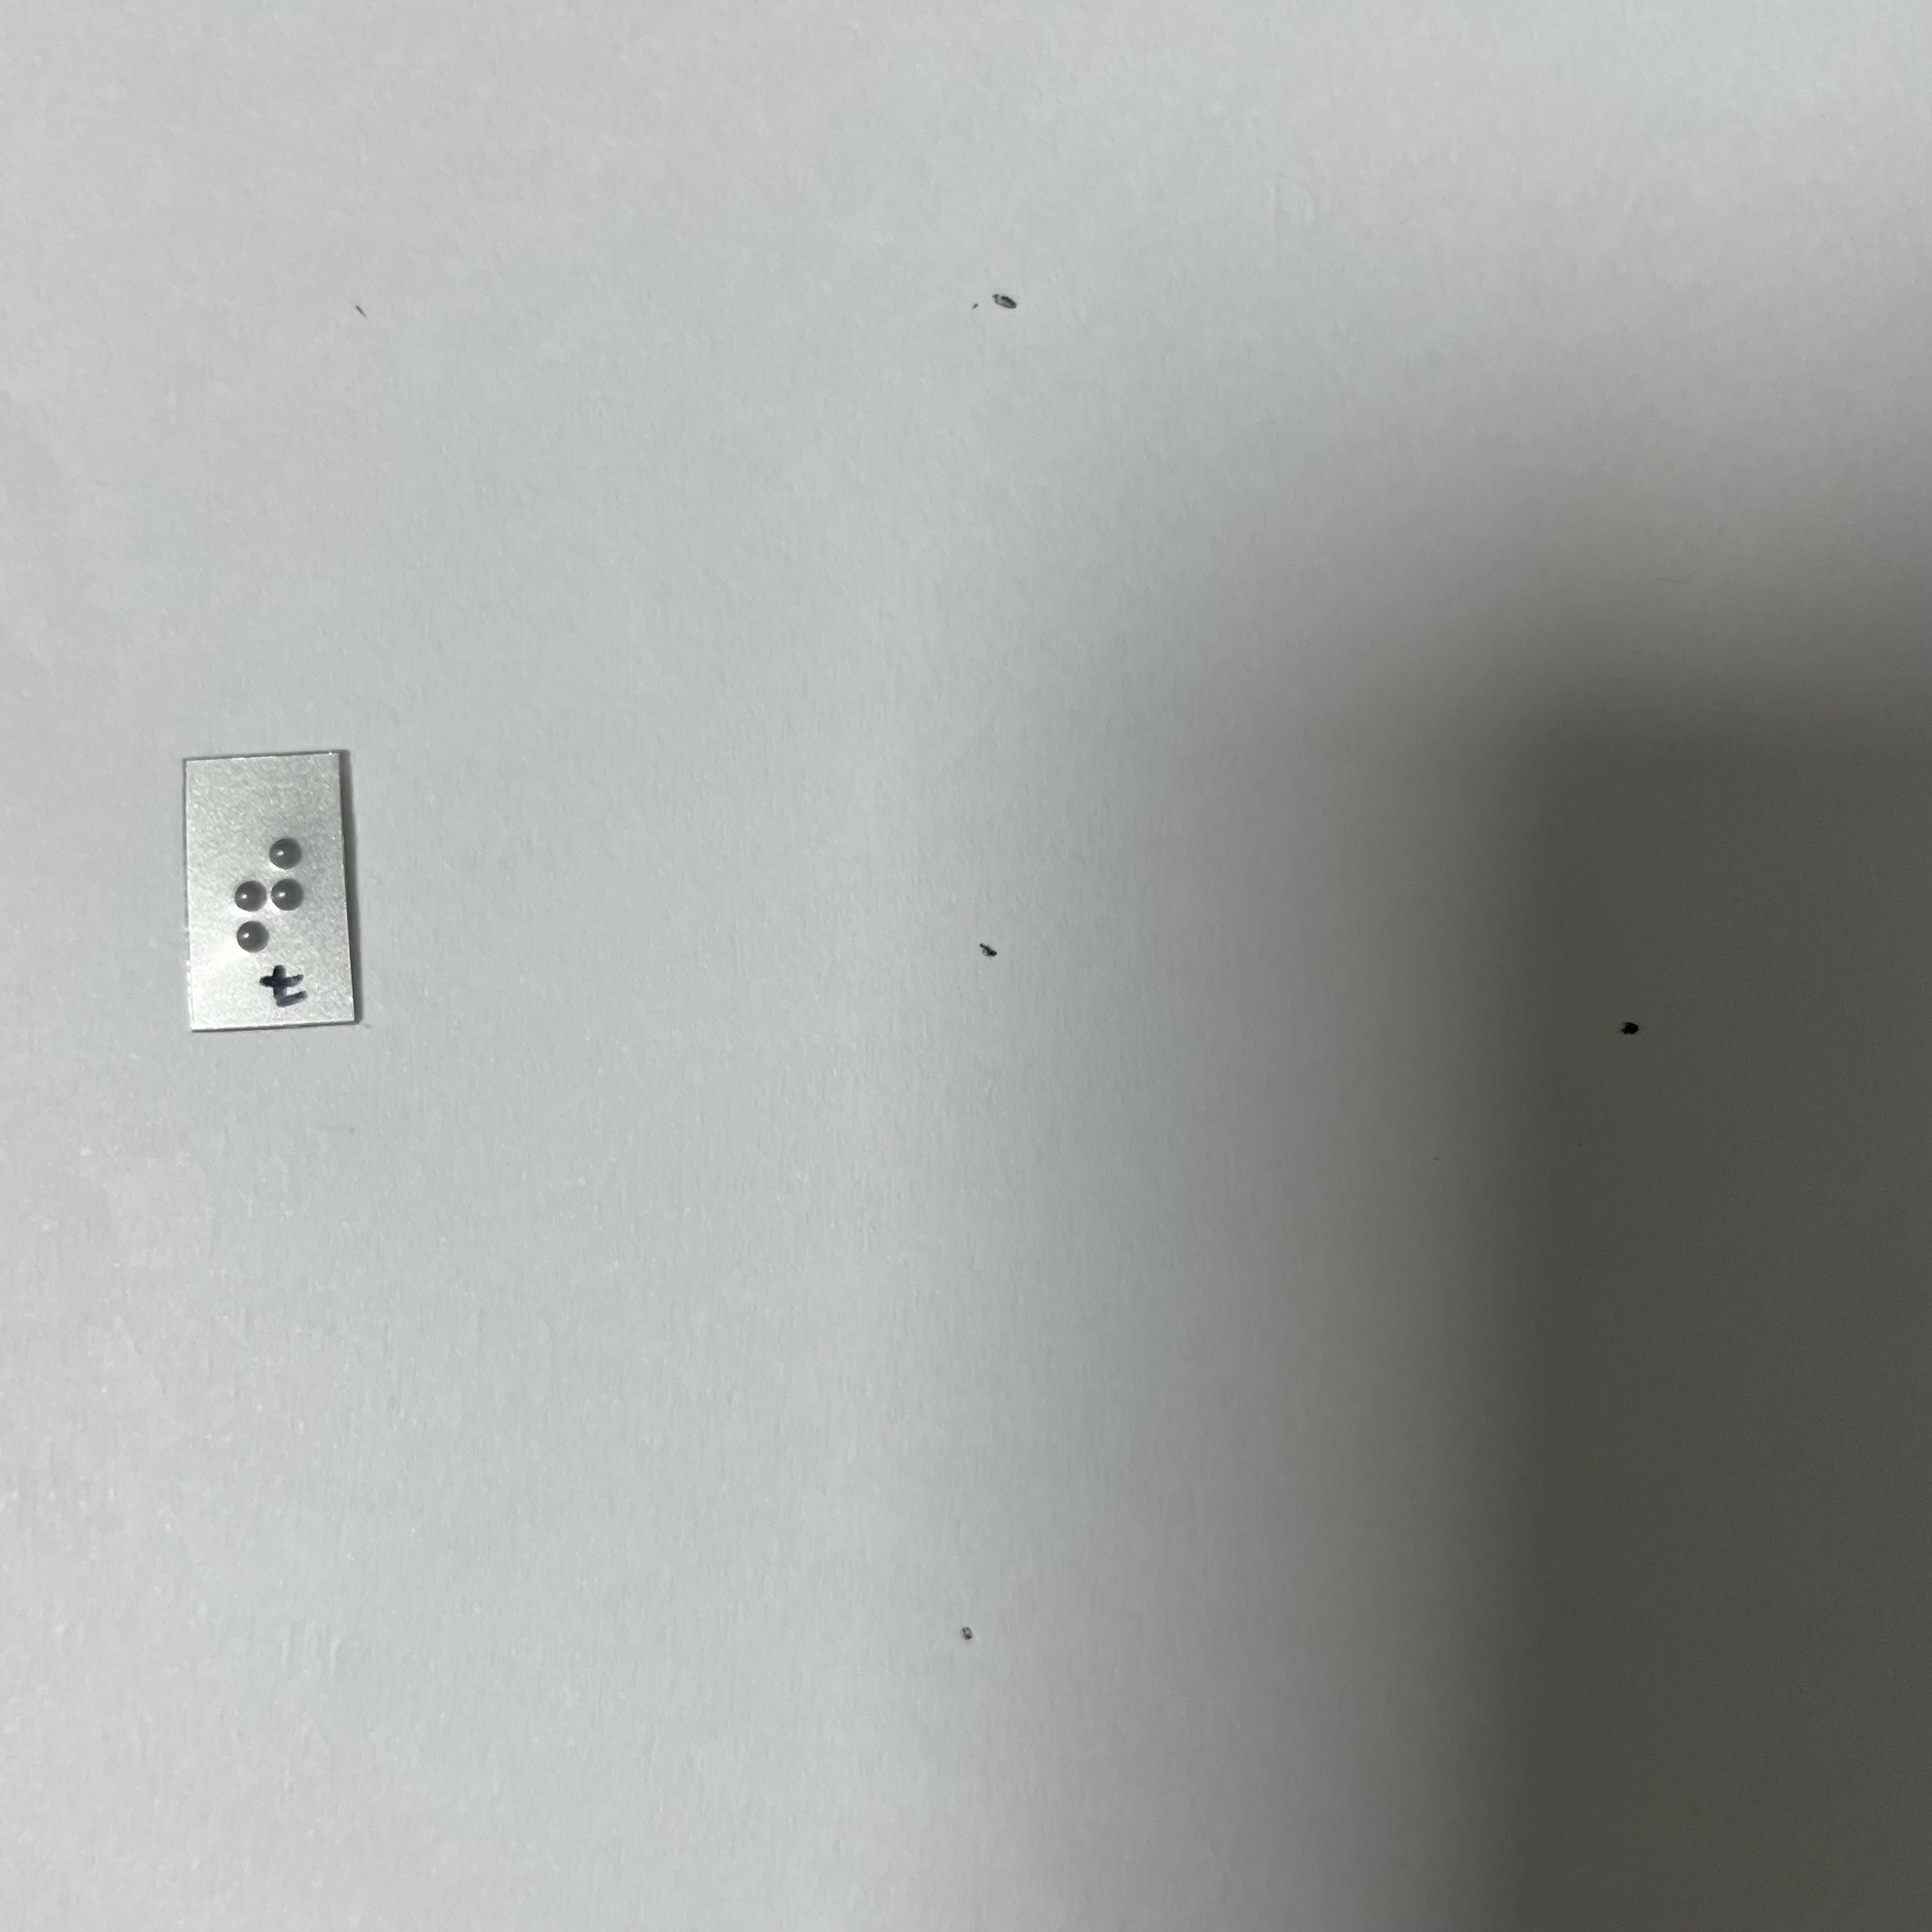t: (225, 819, 310, 961)
